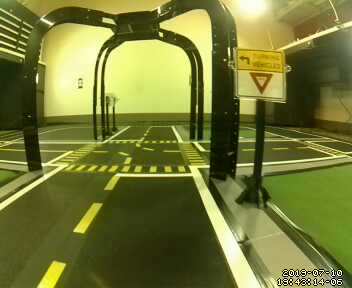Turn Yield: (235, 46, 289, 105)
